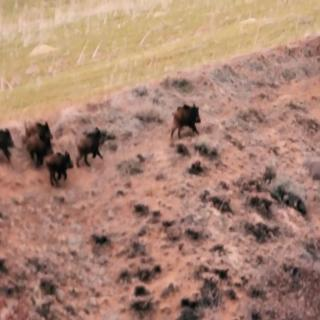Pig: (169, 84, 211, 150), (71, 119, 118, 177), (0, 109, 24, 174), (31, 124, 57, 173), (50, 151, 77, 181)
